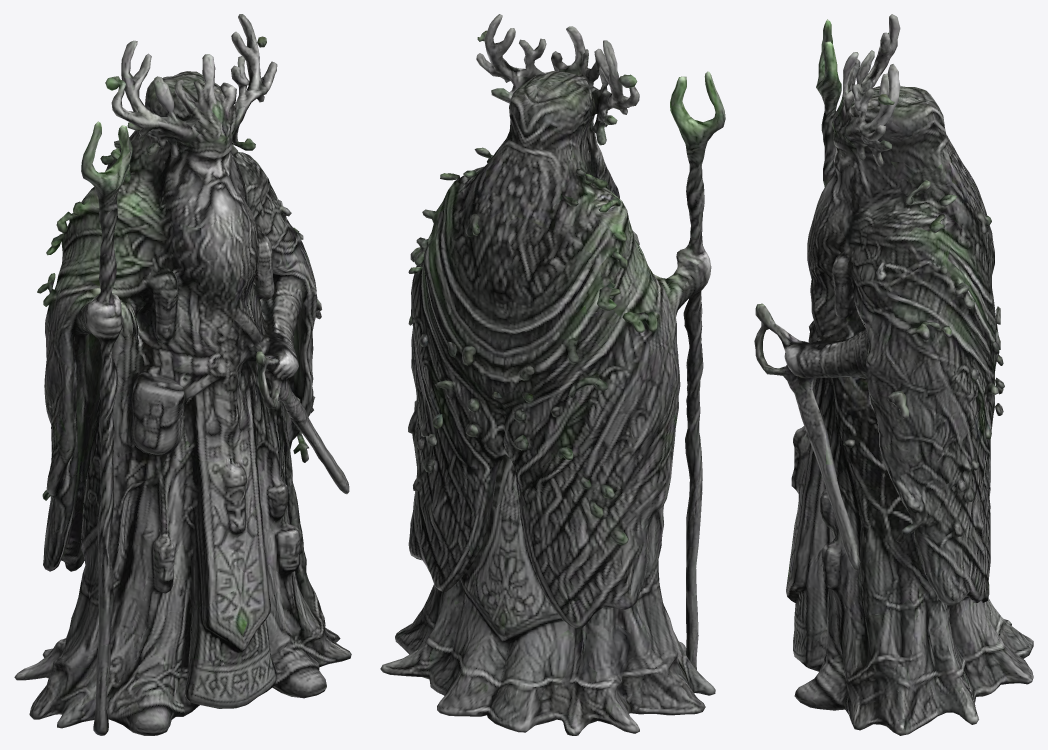
Rendered from Druid_Leader.glb.
3 renders of one model, left to right at view 1: azimuth 30°, elevation 25°; view 2: azimuth 150°, elevation 25°; view 3: azimuth 270°, elevation 25°, orthographic. The views are drawn at different scales.
Bounding box in the file's own units: 0.9315 × 1.91 × 0.7632.
1 material, 1 textured.
